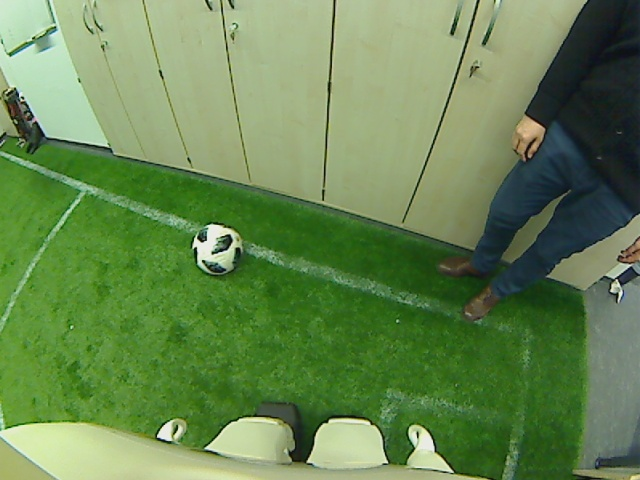ball: (190, 221, 242, 275)
